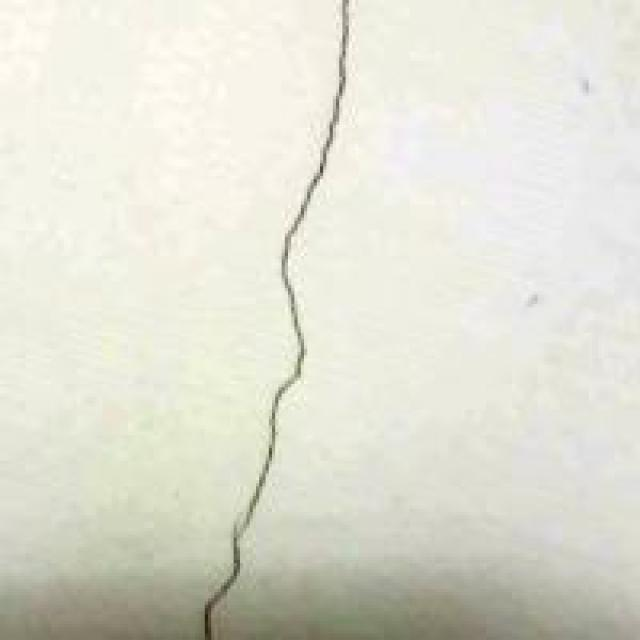crack: (186, 0, 384, 637)
